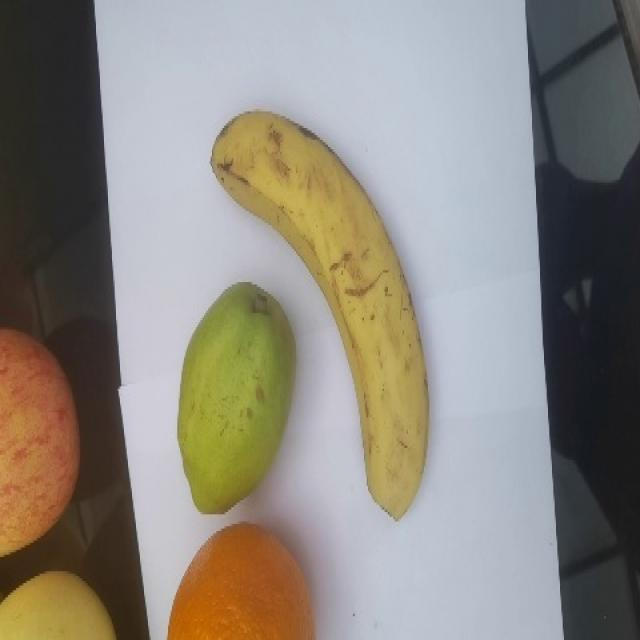Apple: (0, 326, 81, 557)
Banana: (208, 108, 430, 521)
Orange: (166, 521, 315, 639)
